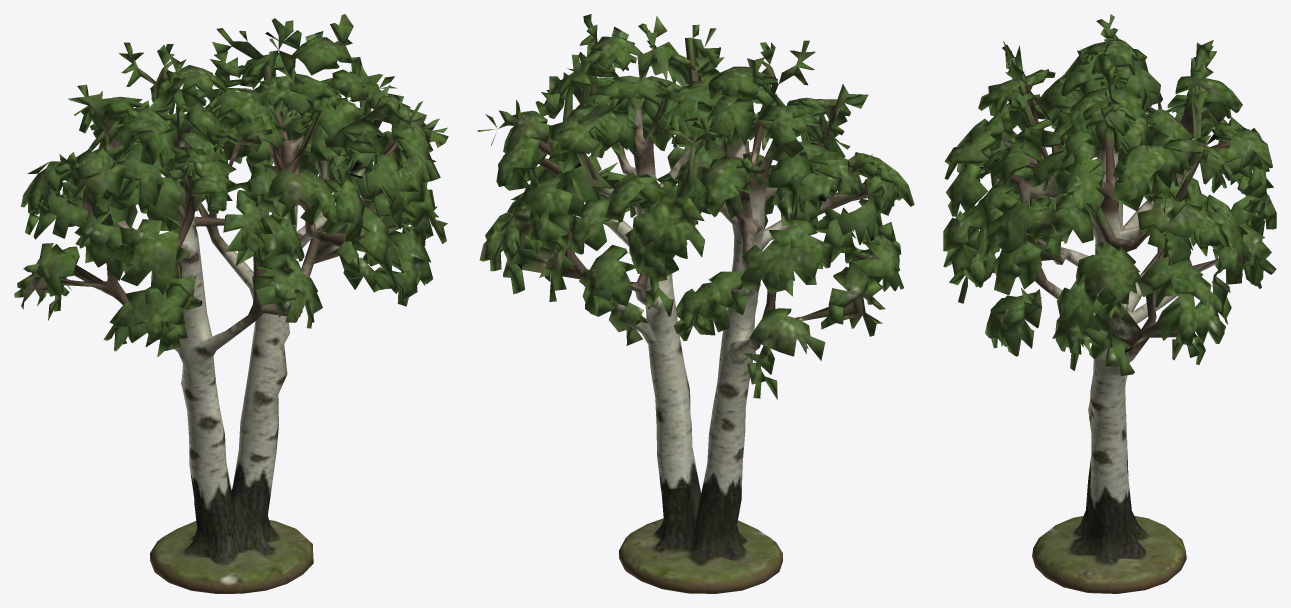
File: tr_birch_b.glb
3 renders of one model, left to right at view 1: azimuth 30°, elevation 25°; view 2: azimuth 150°, elevation 25°; view 3: azimuth 270°, elevation 25°, orthographic.
Parts seen in each view (by area): view 1: tr_birch_b; view 2: tr_birch_b; view 3: tr_birch_b.
Part boxes in pixels (<box>): tr_birch_b: <box>14,14,448,593</box>; tr_birch_b: <box>477,14,914,593</box>; tr_birch_b: <box>943,14,1276,593</box>.
Size of the model in its own units: 8.85 by 11 by 6.39.
1 material, 1 textured.
